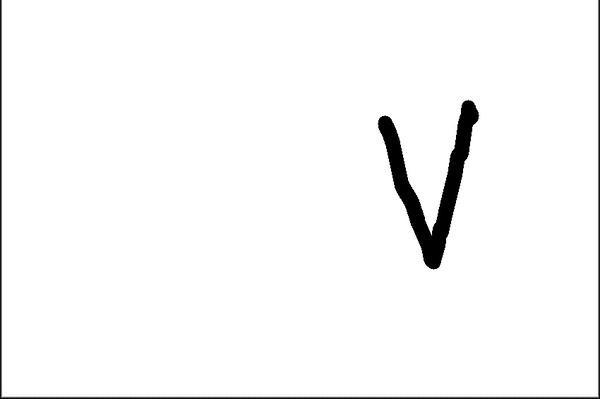V: (362, 97, 493, 272)
